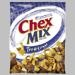grozi_2: (7, 0, 66, 74)
